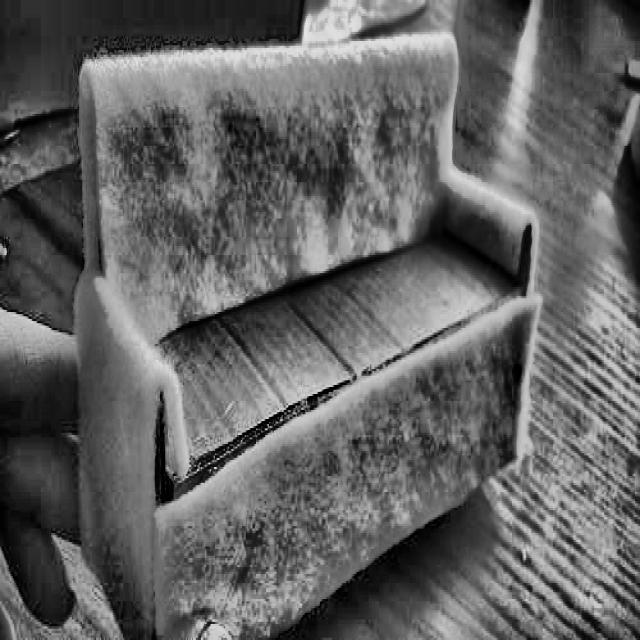sofa: (73, 32, 543, 640)
